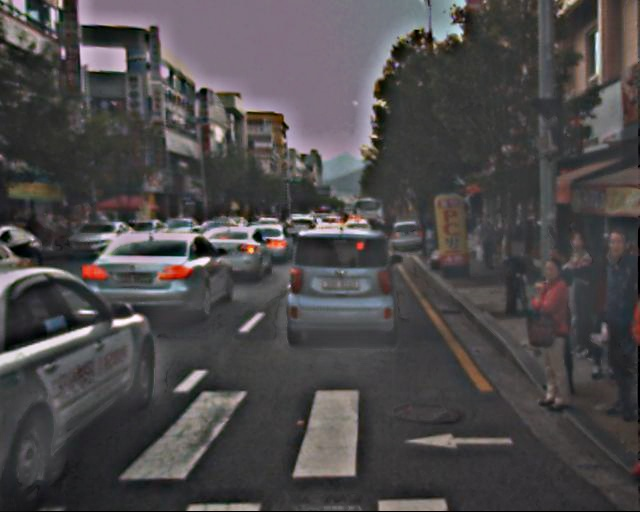person: (580, 230, 640, 424), (519, 258, 583, 413), (552, 230, 605, 359), (479, 213, 502, 269)
